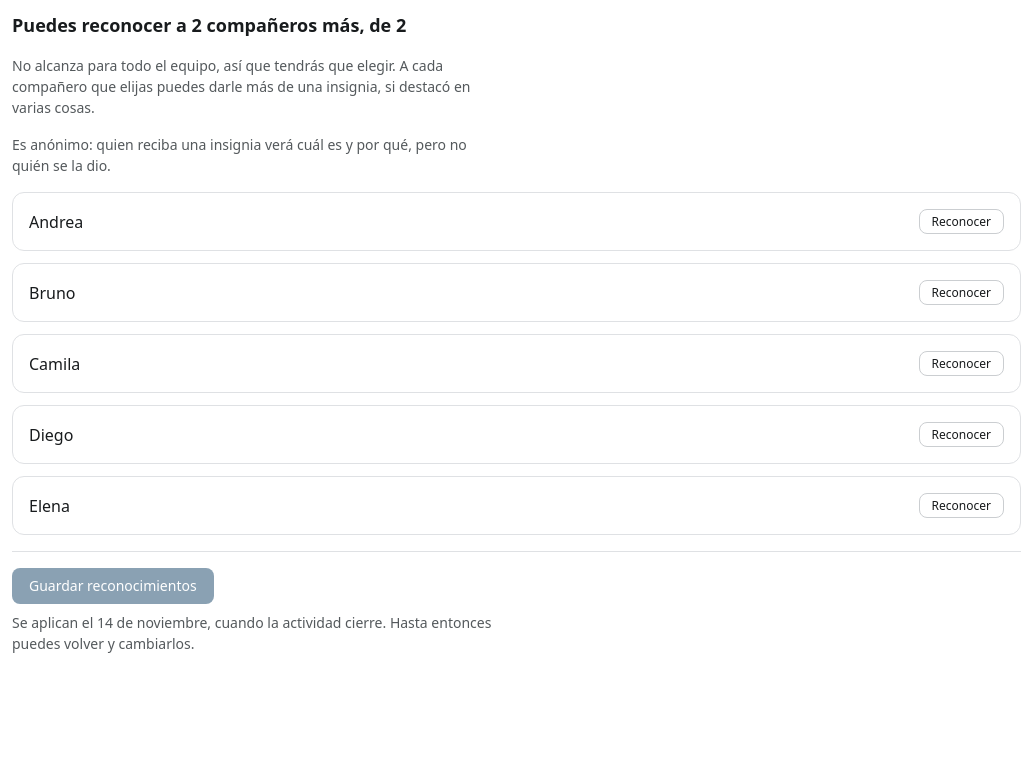
Test case: RitualReconocimiento › no deja dar dos veces la misma insignia a la misma persona
The width and height of the screenshot is (1036, 780).
Click the button with aria-label "Reconocer a " at (961, 222), box [919,209,1004,234]
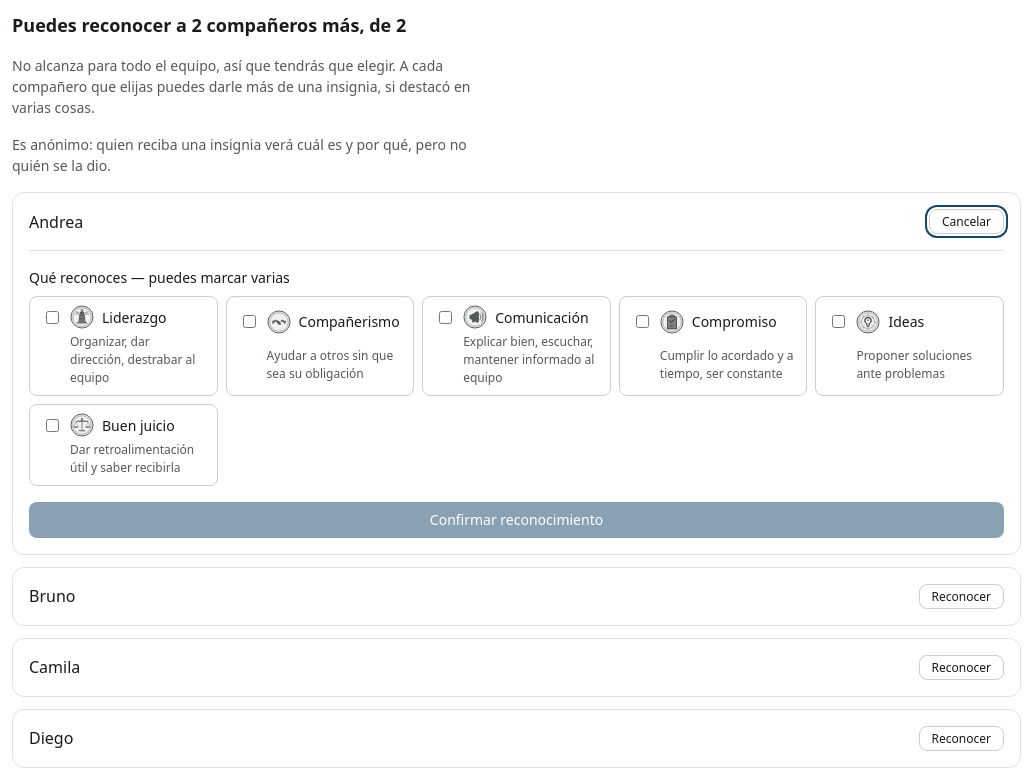
Click the checkbox labelled "Liderazgo Organizar, dar dirección, destrabar al equipo" at (52, 317), box [46,310,59,324]
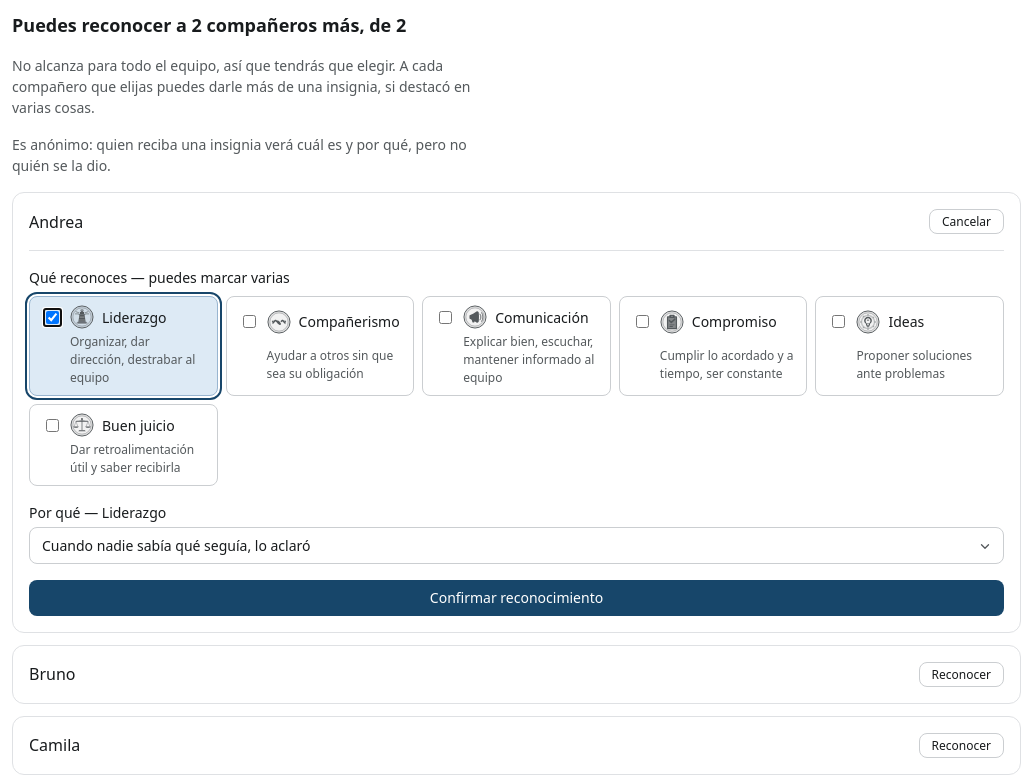
Click the button "Confirmar reconocimiento" at (516, 598), box [29,580,1004,616]
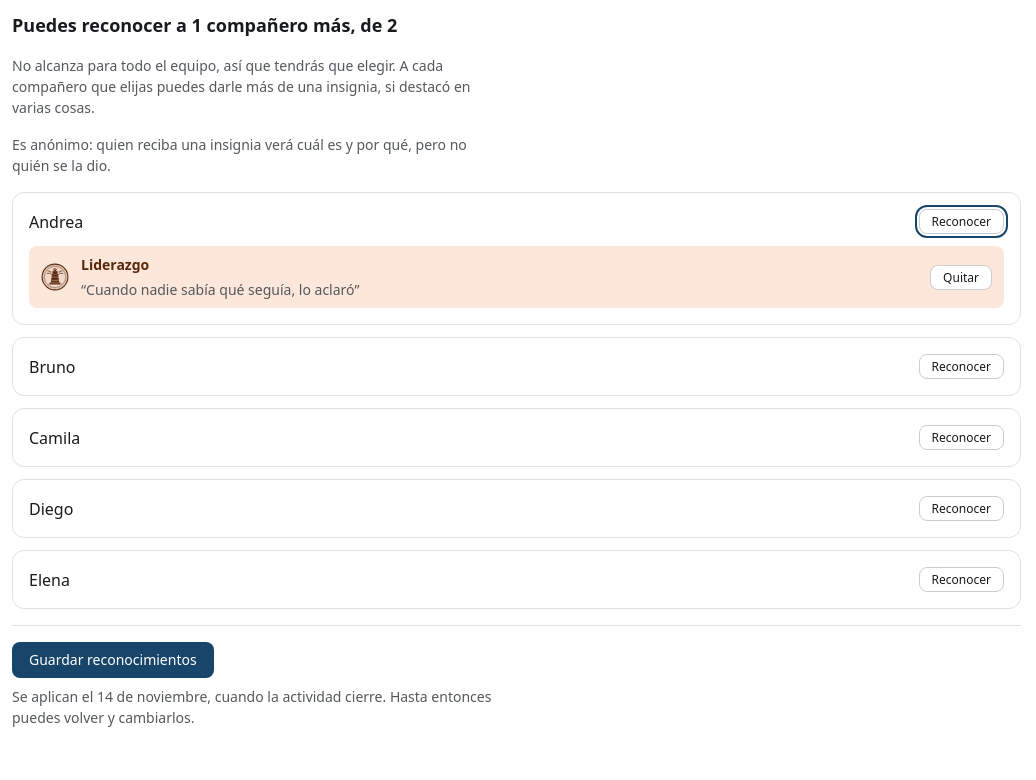
Click the button with aria-label "Reconocer a " at (961, 222), box [919,209,1004,234]
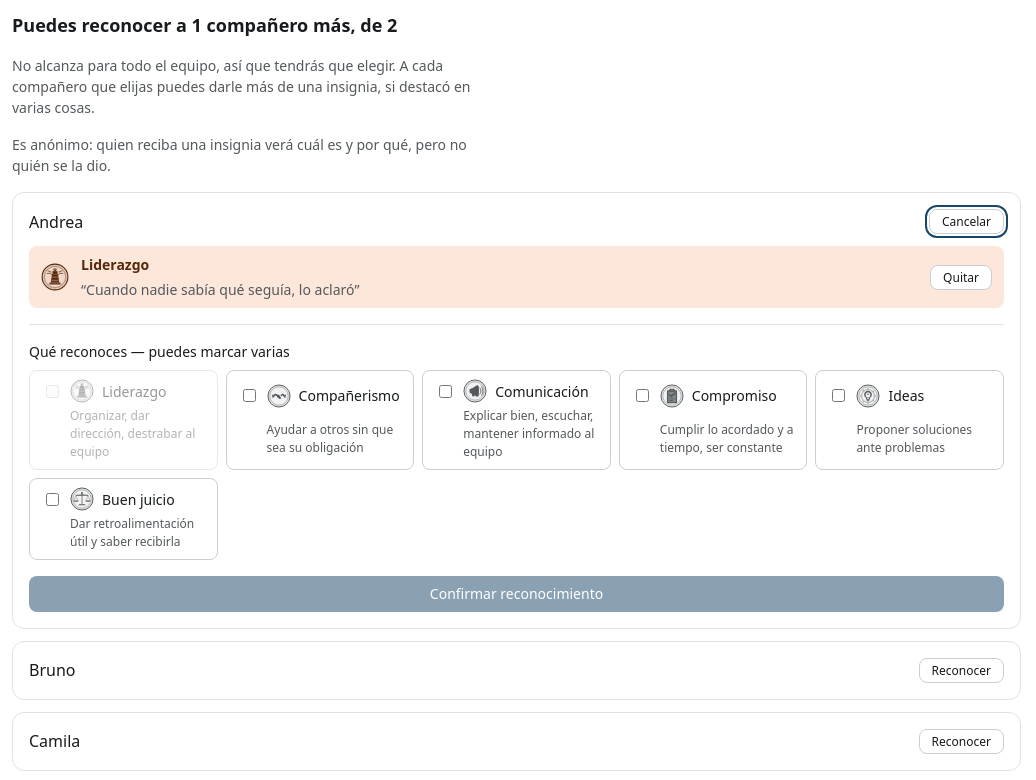
Expected: the checkbox labelled "Compañerismo Ayudar a otros sin que sea su obligación" is enabled, [243,389,256,402]
